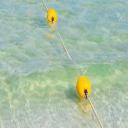yellow: (76, 76, 91, 98), (46, 8, 56, 22)
